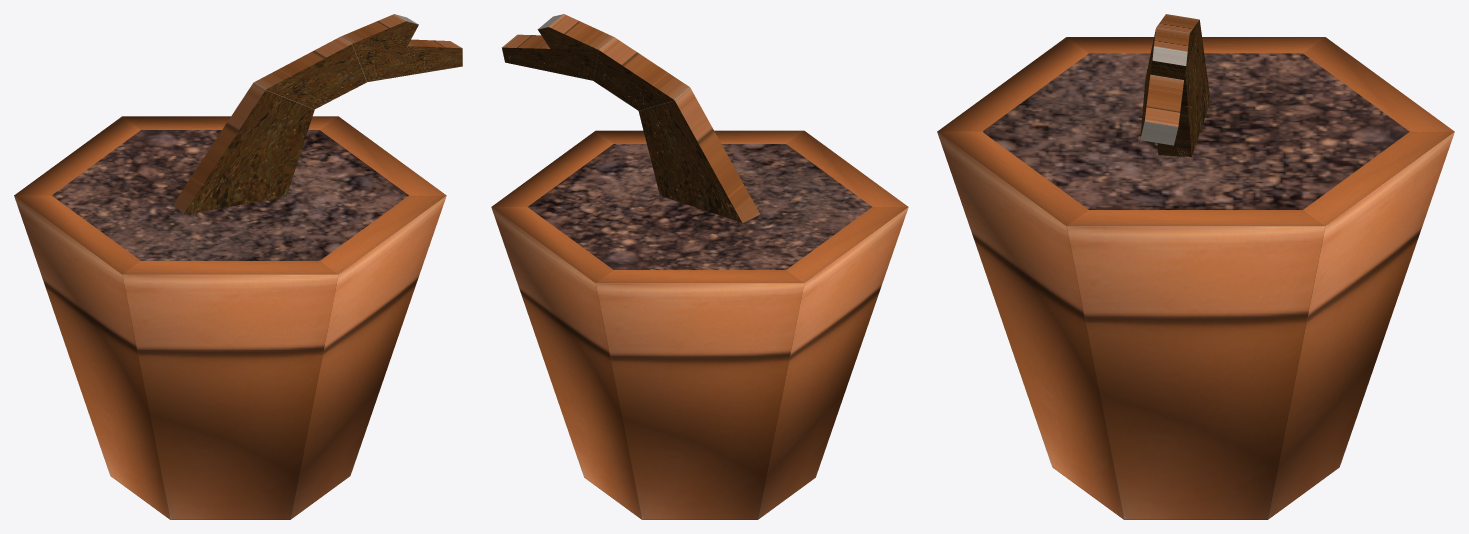
Rendered from potted_plant.fbx.
The picture shows the model from 3 angles, left to right: view 1: azimuth 30°, elevation 25°; view 2: azimuth 150°, elevation 25°; view 3: azimuth 270°, elevation 25°; orthographic projection. The views are drawn at different scales.
Parts seen in each view (by area): view 1: plant_pot; view 2: plant_pot; view 3: plant_pot.
Part boxes in pixels (x1=…): plant_pot: x1=14, y1=14, x2=462, y2=519; plant_pot: x1=491, y1=14, x2=908, y2=519; plant_pot: x1=937, y1=14, x2=1454, y2=519.
Size of the model in its own units: 90.66 by 99.09 by 90.58.
Materials: 1 (1 with a texture image).
